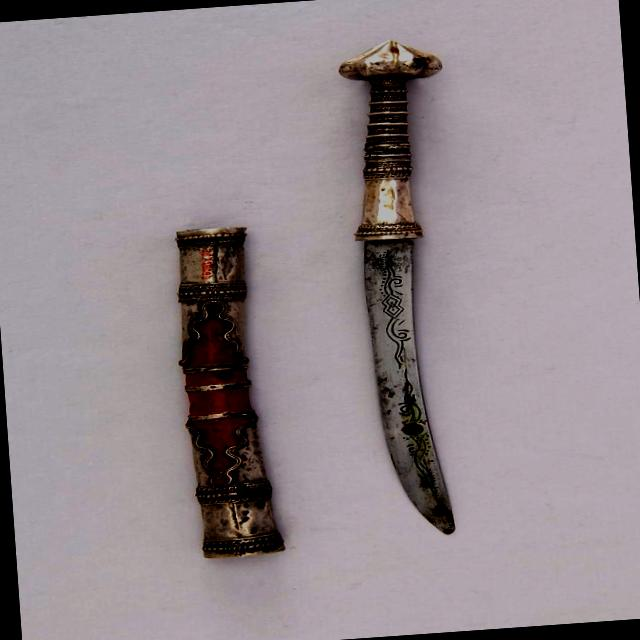short sword: (116, 22, 504, 586)
